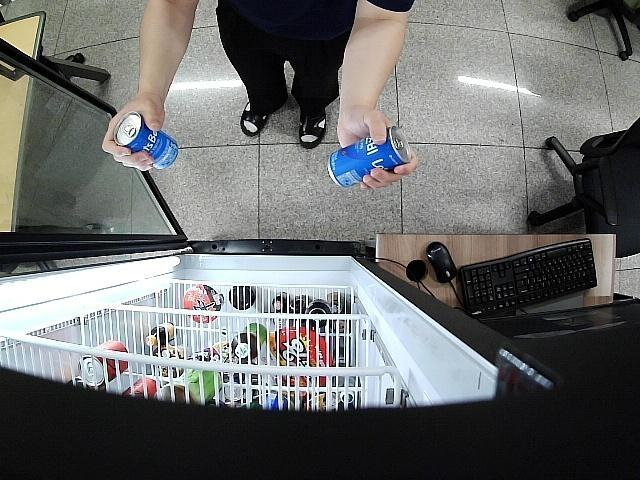15_letsbe: (327, 126, 412, 190), (112, 112, 180, 170)
